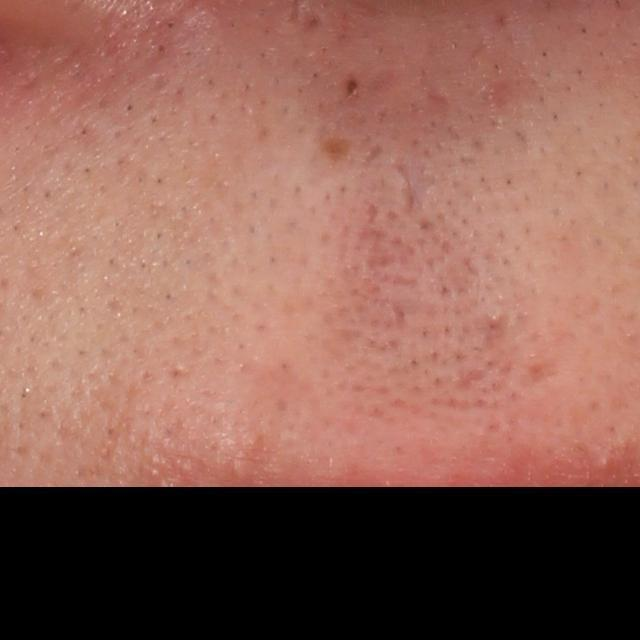atrophic_scar: (394, 158, 420, 218), (319, 132, 352, 165), (520, 363, 564, 385), (452, 365, 488, 388), (361, 142, 385, 170), (422, 87, 453, 105), (390, 276, 422, 290), (462, 256, 482, 278), (344, 71, 358, 101), (391, 308, 406, 334), (367, 200, 378, 228)
